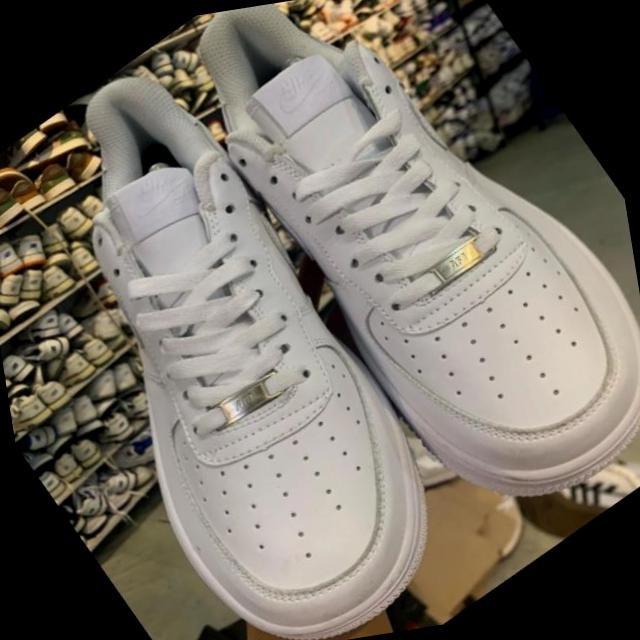nike_fake_airforce: (0, 12, 502, 640), (144, 0, 640, 587)
